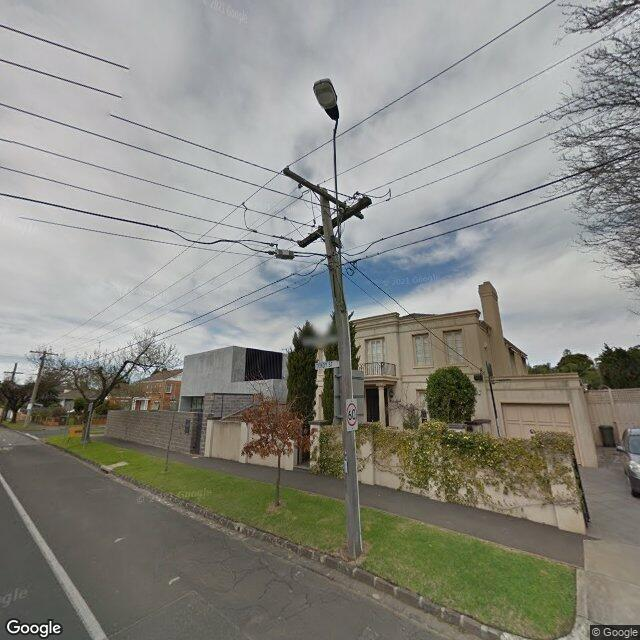crossarm: (283, 168, 363, 219), (298, 196, 372, 248), (30, 351, 58, 355), (3, 371, 23, 374)
streetlight: (313, 78, 342, 270)
timber-pole: (320, 188, 362, 560), (24, 350, 46, 428), (4, 363, 18, 421)
